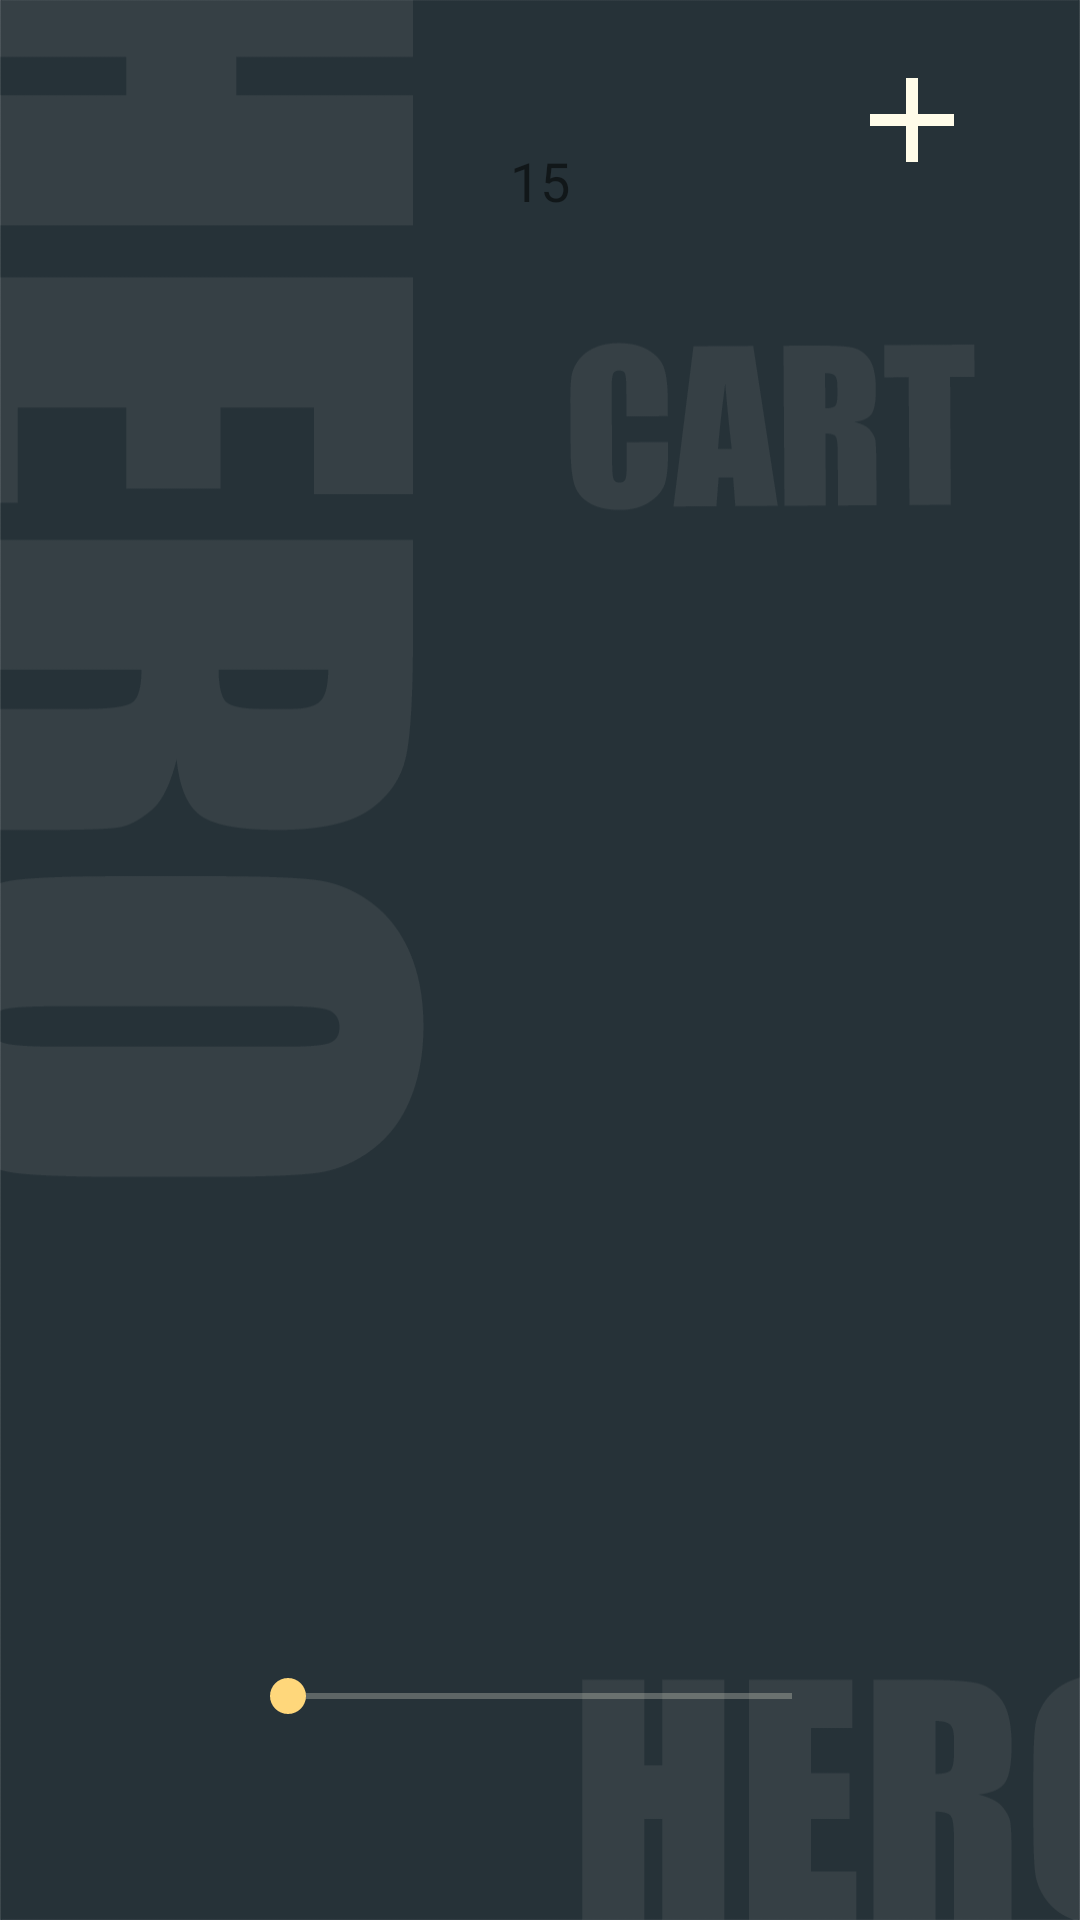

Icons on this 1080×1920 Android screen, each with its box as region(x1, y1, x2, y2):
add: region(870, 78, 954, 162)
